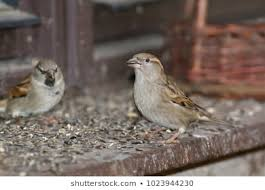hsparrow: (124, 49, 218, 137), (1, 56, 70, 120)
